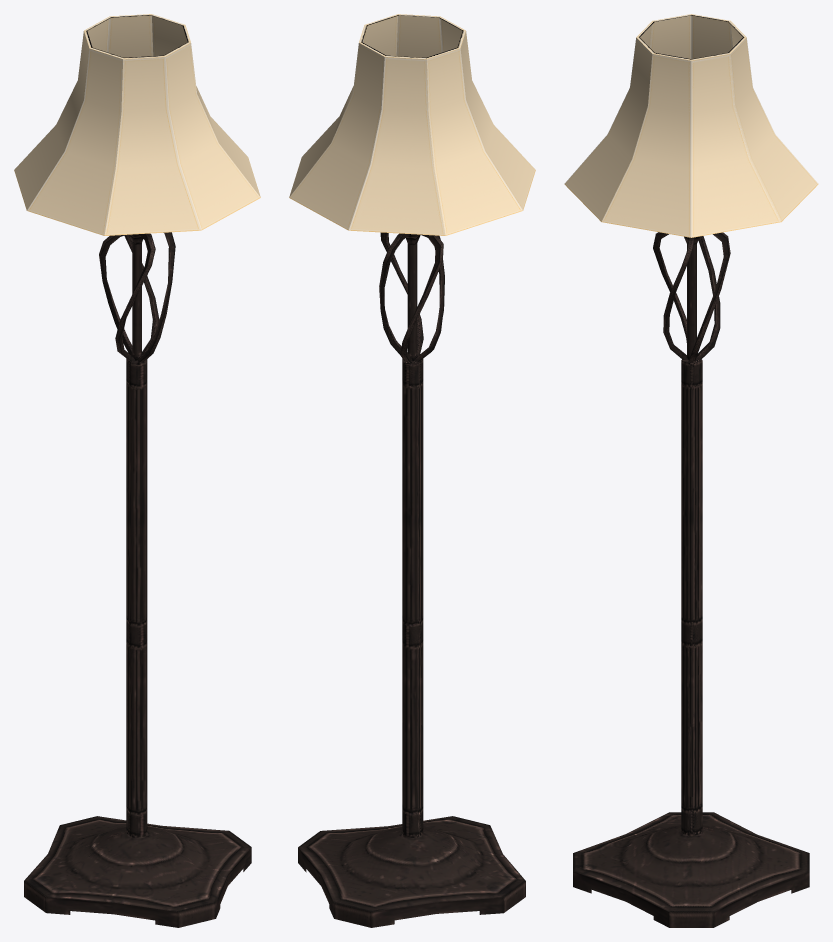
File: FloorLamp.FBX
3 renders of one model, left to right at view 1: azimuth 30°, elevation 25°; view 2: azimuth 150°, elevation 25°; view 3: azimuth 270°, elevation 25°, orthographic.
Parts seen in each view (by area): view 1: FloorLamp; view 2: FloorLamp; view 3: FloorLamp.
Boxes of the visible parts, x1,y1,x2,y2 form: FloorLamp: (14, 14, 260, 927); FloorLamp: (289, 14, 535, 927); FloorLamp: (564, 14, 818, 927).
Bounding box in the file's own units: 63.36 × 231 × 63.36.
